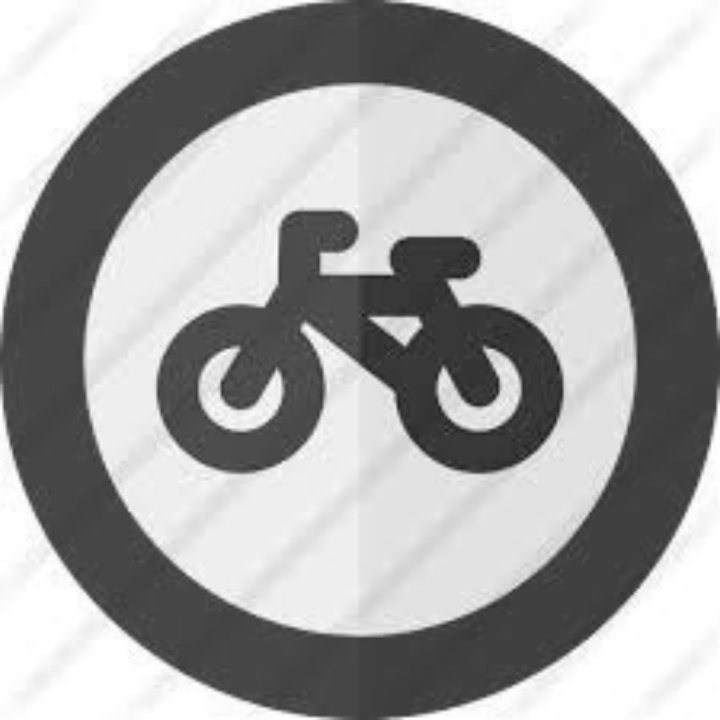bicycle: (143, 189, 599, 501)
